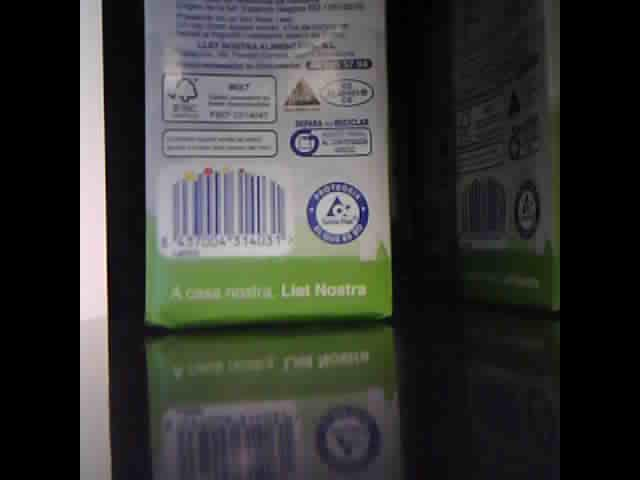leche: (145, 3, 390, 328), (457, 4, 558, 315)
